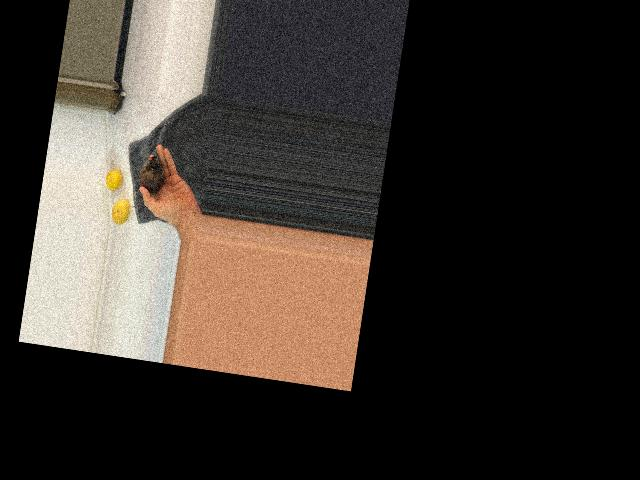beet: (132, 154, 167, 211)
